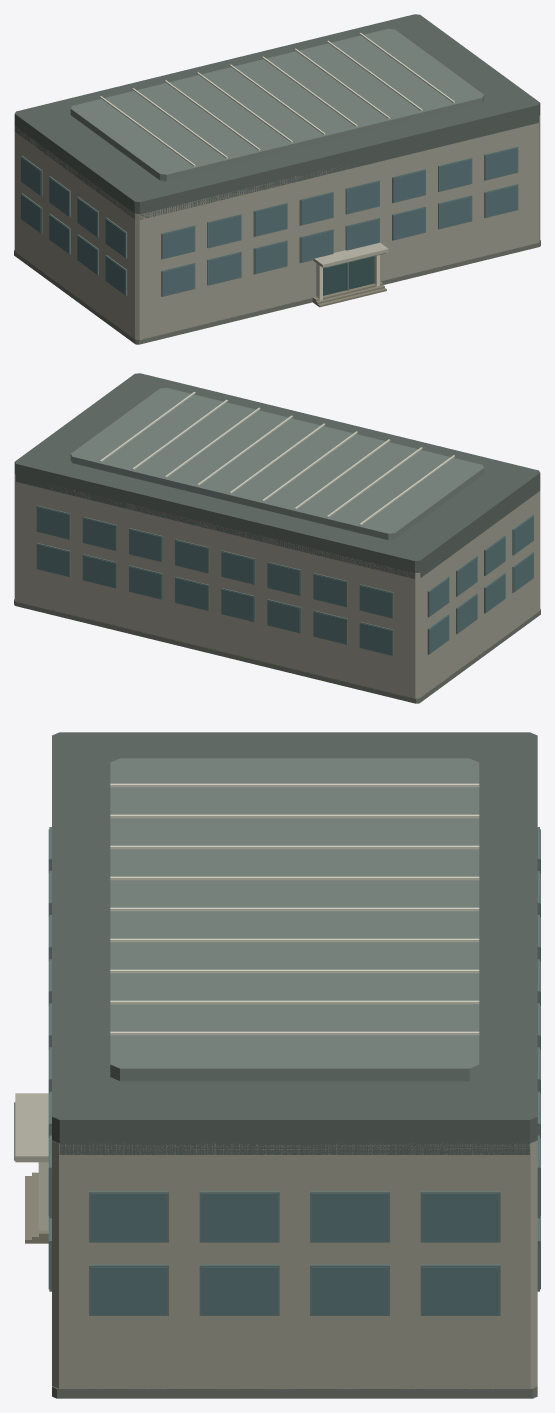
Rendered from hall.glb.
3 views of the same model, one above another, from view 1: azimuth 30°, elevation 25°; view 2: azimuth 150°, elevation 25°; view 3: azimuth 270°, elevation 25° (orthographic). The views are drawn at different scales.
Parts seen in each view (by area): view 1: form, glaze, relief, glowing; view 2: form, glaze, relief, glowing; view 3: form, glaze, relief.
Part boxes in pixels (<box>): form: <box>14,14,540,344</box>; glaze: <box>21,148,517,296</box>; relief: <box>21,33,518,300</box>; glowing: <box>393,208,425,239</box>; form: <box>14,373,540,703</box>; glaze: <box>37,507,533,655</box>; relief: <box>36,392,533,655</box>; glowing: <box>268,600,299,632</box>; form: <box>15,732,537,1398</box>; glaze: <box>48,829,540,1314</box>; relief: <box>14,783,539,1315</box>.
Bounding box in the file's own units: 34.25 × 12.13 × 19.54.
